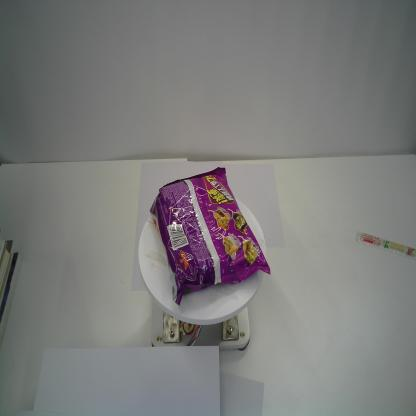Instant Noodles: (150, 165, 271, 307)
